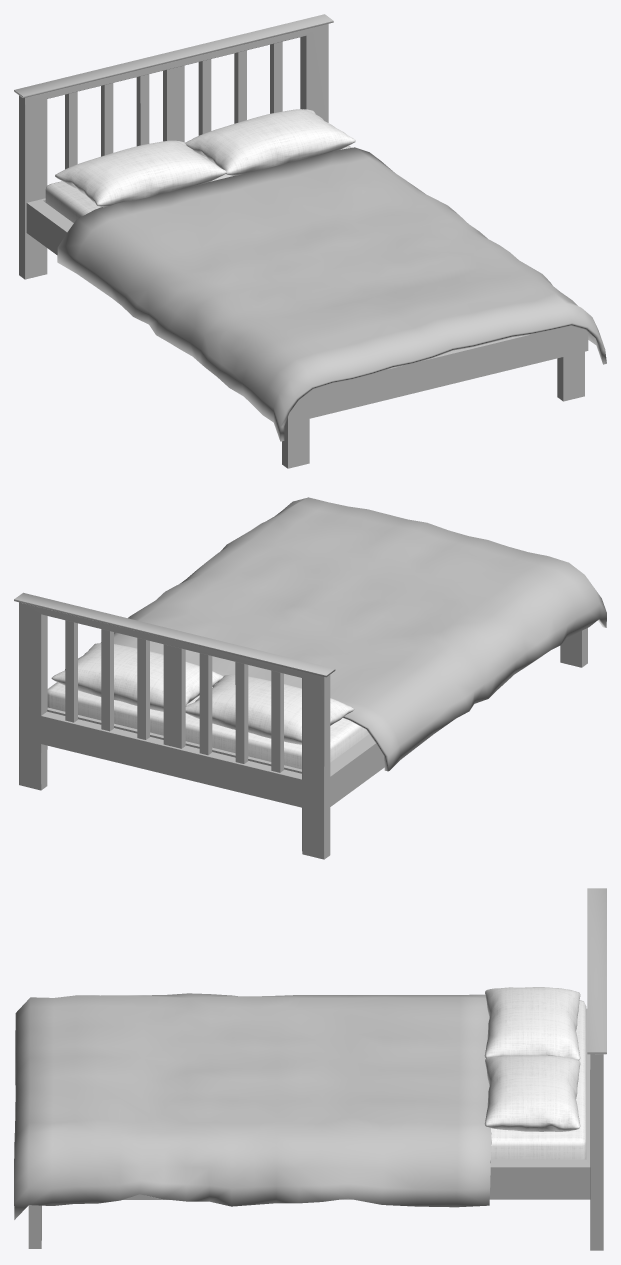
Rendered from TwoPerson_Bed.fbx.
3 views of the same model, one above another, from view 1: azimuth 30°, elevation 25°; view 2: azimuth 150°, elevation 25°; view 3: azimuth 270°, elevation 25° (orthographic). The views are drawn at different scales.
Parts seen in each view (by area): view 1: TwoPerson_Bed_LOD_0; view 2: TwoPerson_Bed_LOD_0; view 3: TwoPerson_Bed_LOD_0.
Part boxes in pixels (box(x1,y1,x2,y2)): TwoPerson_Bed_LOD_0: box(14, 14, 606, 468); TwoPerson_Bed_LOD_0: box(14, 497, 606, 859); TwoPerson_Bed_LOD_0: box(14, 888, 606, 1250).
Size of what is drawn, in the model's own units: 154 by 79.52 by 213.
